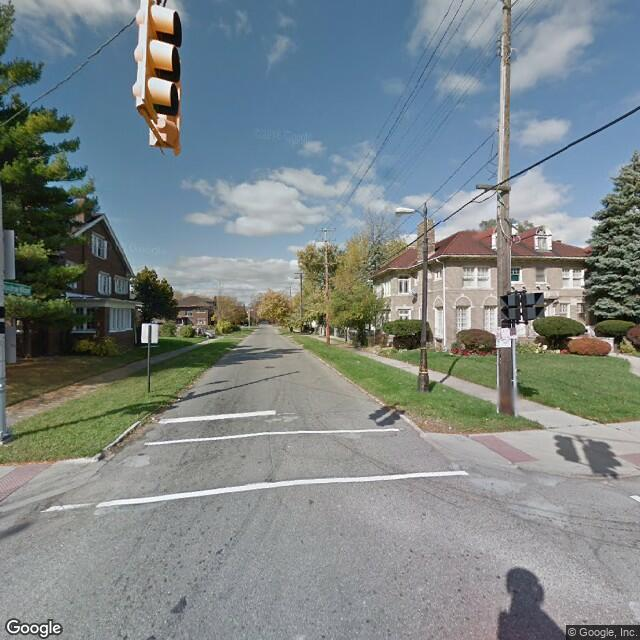litter: (100, 448, 115, 455), (168, 398, 183, 402), (447, 425, 454, 433), (145, 418, 155, 423)
